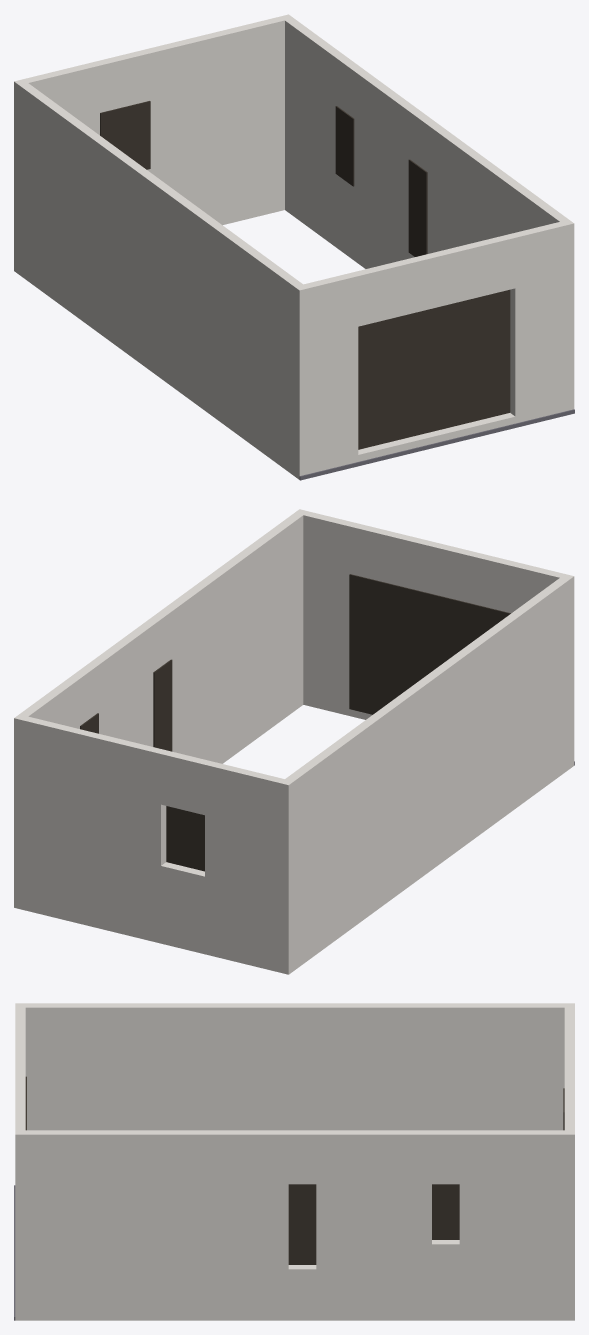
File: SM_Floor_NarrowUpperBalconyEndR_White_455_Back_01.gltf
3 views of the same model, one above another, from view 1: azimuth 30°, elevation 25°; view 2: azimuth 150°, elevation 25°; view 3: azimuth 270°, elevation 25° (orthographic). The views are drawn at different scales.
Visible parts, largest first — view 1: SM_Floor_NarrowUpperBalconyEndR_White_455_Back_01; view 2: SM_Floor_NarrowUpperBalconyEndR_White_455_Back_01; view 3: SM_Floor_NarrowUpperBalconyEndR_White_455_Back_01.
Boxes of the visible parts, x1,y1,x2,y2 form: SM_Floor_NarrowUpperBalconyEndR_White_455_Back_01: (14,14,574,480); SM_Floor_NarrowUpperBalconyEndR_White_455_Back_01: (14,509,574,974); SM_Floor_NarrowUpperBalconyEndR_White_455_Back_01: (14,1003,574,1320).
Size of the model in its own units: 4.55 by 3 by 8.21.
1 material, 1 textured.
